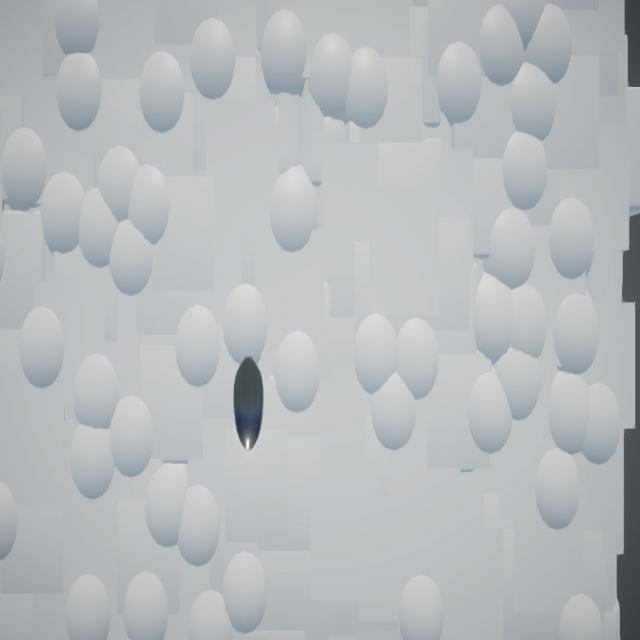top_spoon: (234, 357, 265, 453)
